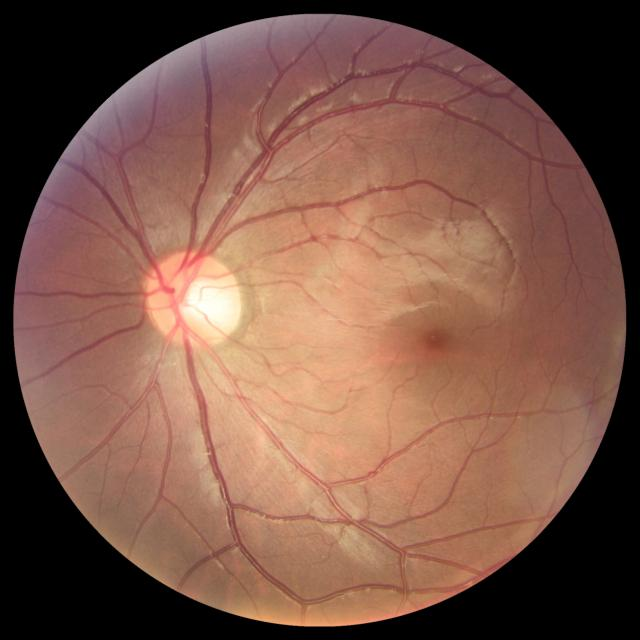OC: (170, 272, 228, 330)
OD: (146, 251, 243, 345)
